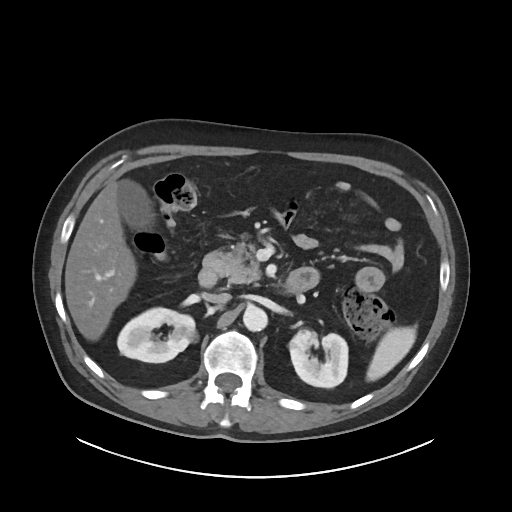Lesion: (181, 321, 200, 346)
